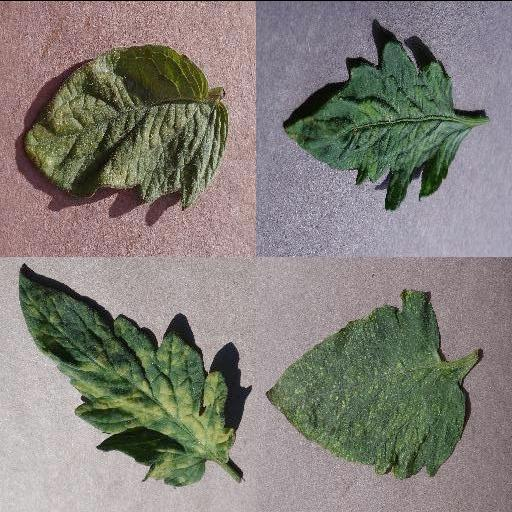Leaf Mold: (16, 268, 238, 487)
Mosaic Virus: (280, 38, 472, 210)
Spider Mites: (264, 287, 468, 477), (21, 44, 229, 208)
